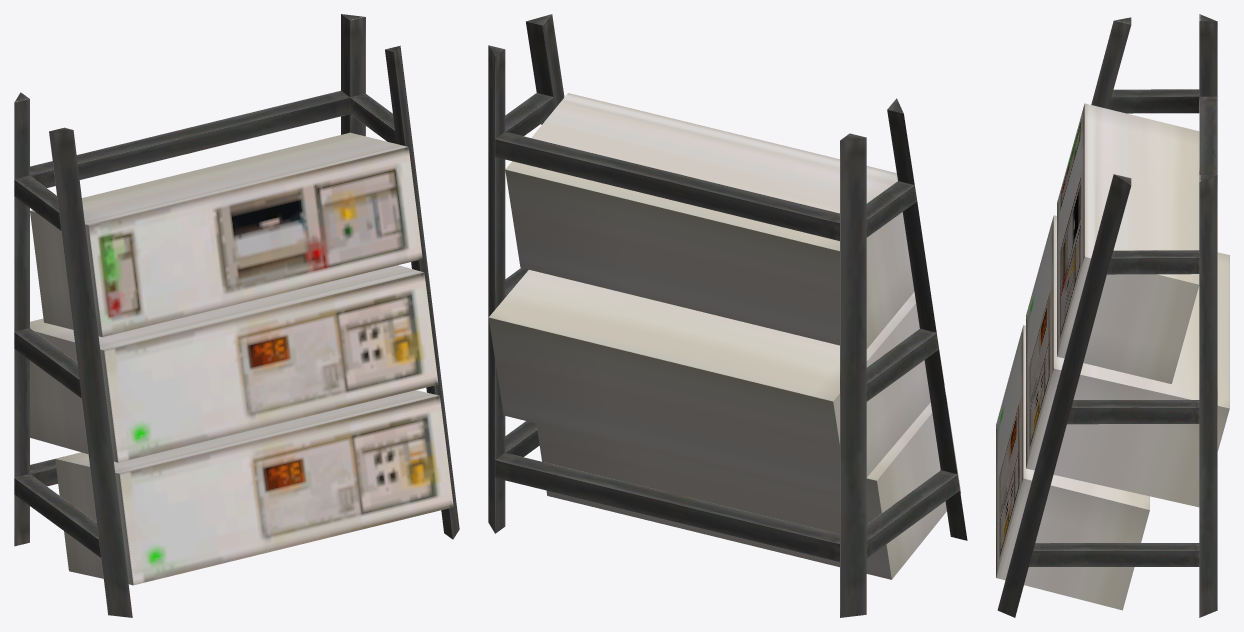
File: MFrame2.glb
The picture shows the model from 3 angles, left to right: view 1: azimuth 30°, elevation 25°; view 2: azimuth 150°, elevation 25°; view 3: azimuth 270°, elevation 25°; orthographic projection. The views are drawn at different scales.
Parts seen in each view (by area): view 1: MFRAME2; view 2: MFRAME2; view 3: MFRAME2.
Boxes of the visible parts, box(x1,y1,x2,y2) form: MFRAME2: box(14, 14, 459, 617); MFRAME2: box(488, 14, 967, 617); MFRAME2: box(996, 14, 1229, 617).
Size of the model in its own units: 0.878 by 1.06 by 0.515.
Materials: 1 (1 with a texture image).
